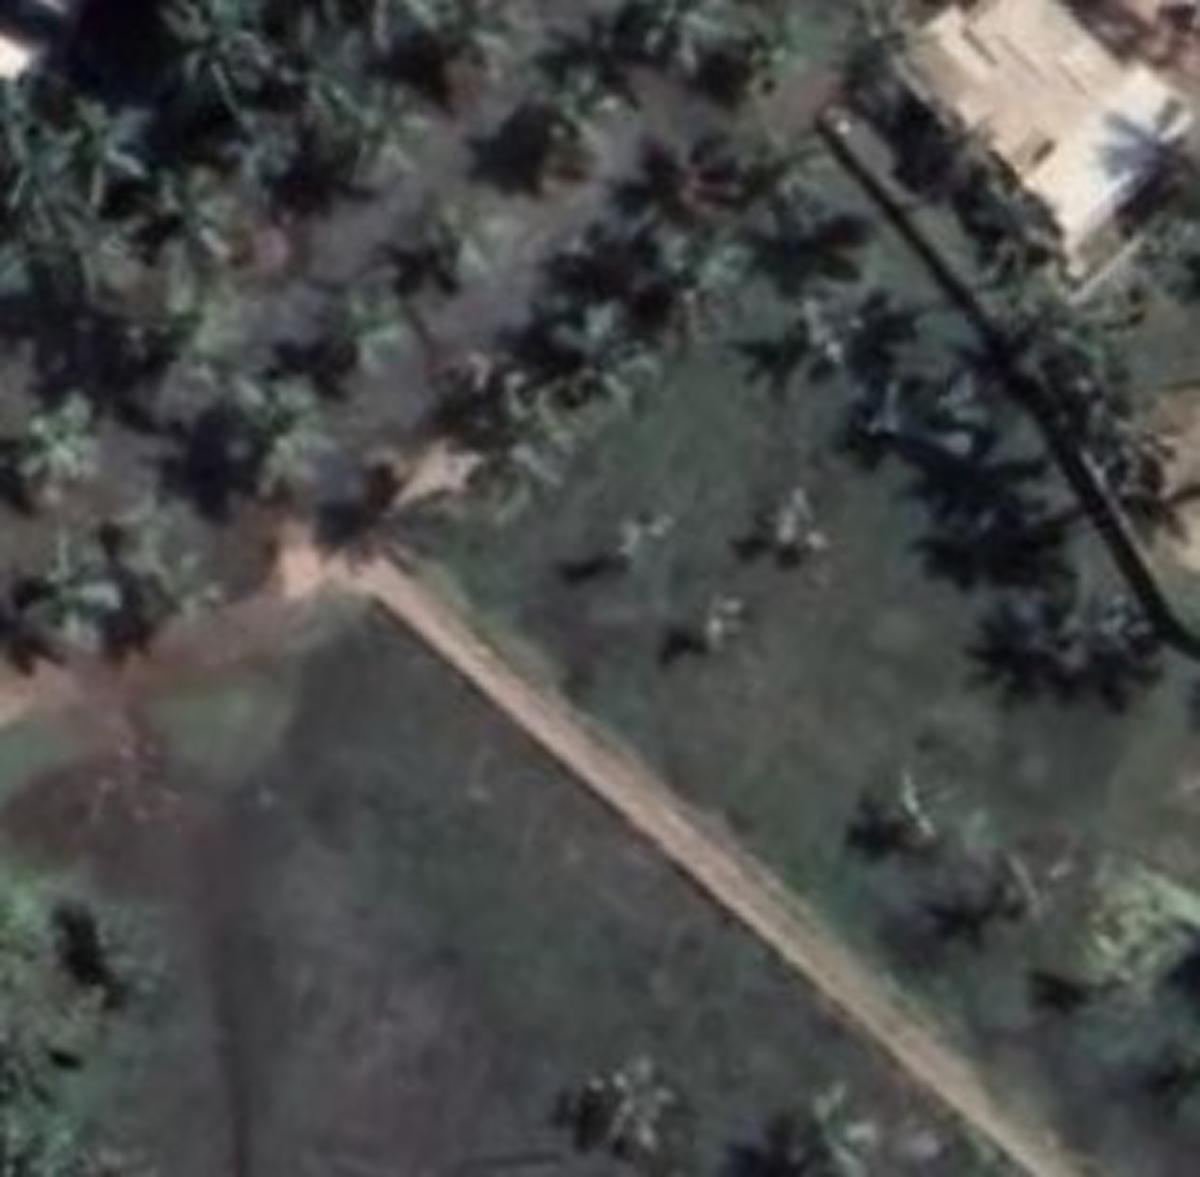coconut: (301, 82, 471, 230), (162, 3, 309, 120), (135, 177, 260, 309), (30, 539, 147, 667), (3, 384, 113, 516), (33, 101, 150, 226), (218, 380, 332, 497), (467, 388, 607, 482), (652, 192, 765, 297), (325, 297, 422, 403), (400, 199, 505, 294), (524, 60, 633, 150), (633, 3, 758, 79), (569, 309, 675, 396)
